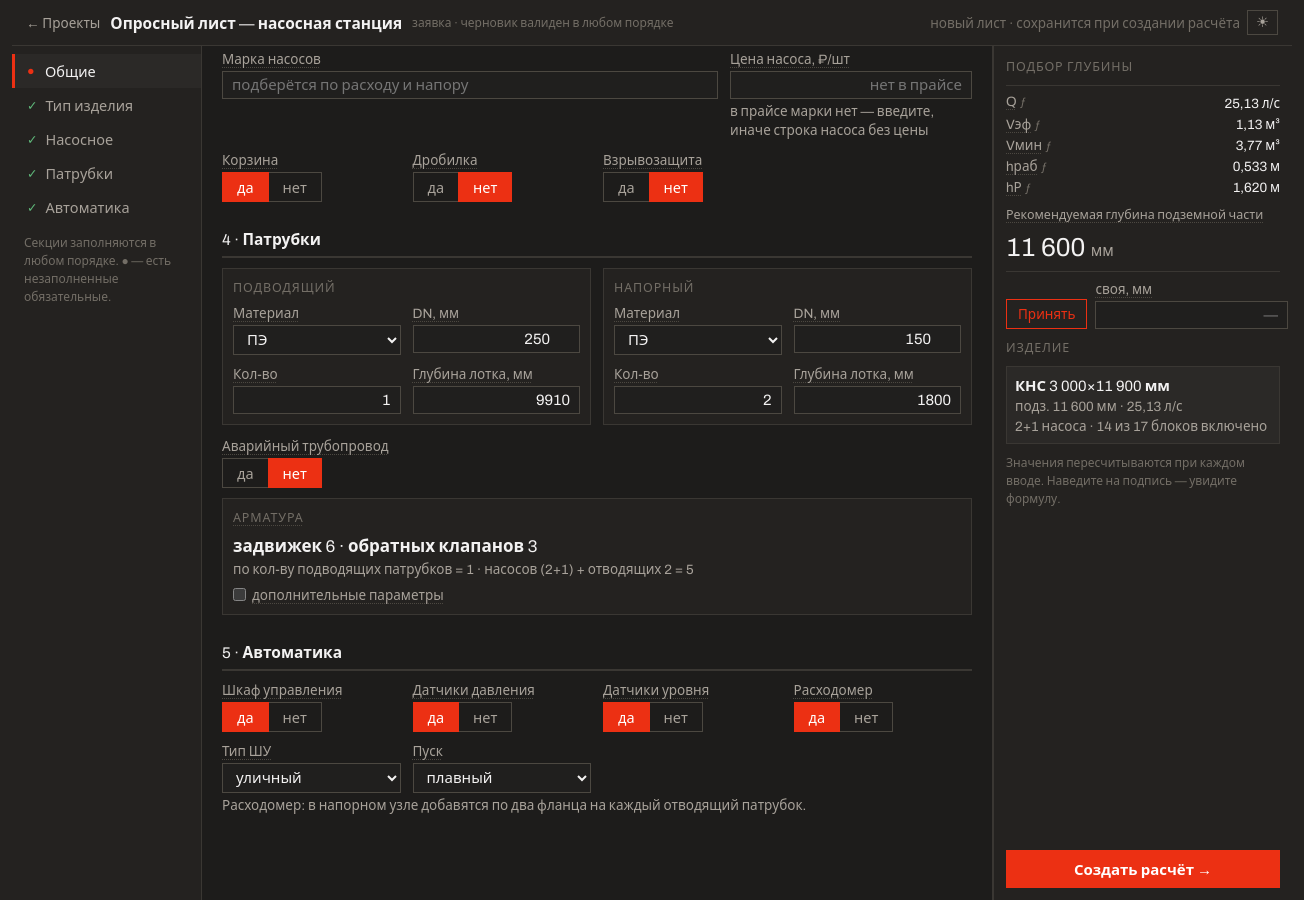
Test case: ОЛ КНС: дополнительные параметры и обязательная комплектация › аварийная линия открывает выбор муфты и сохраняет размер после выключения
(page scrolled)
Click the button "да" below "Аварийный трубопровод" at x=245, y=473, box [222,458,269,488]
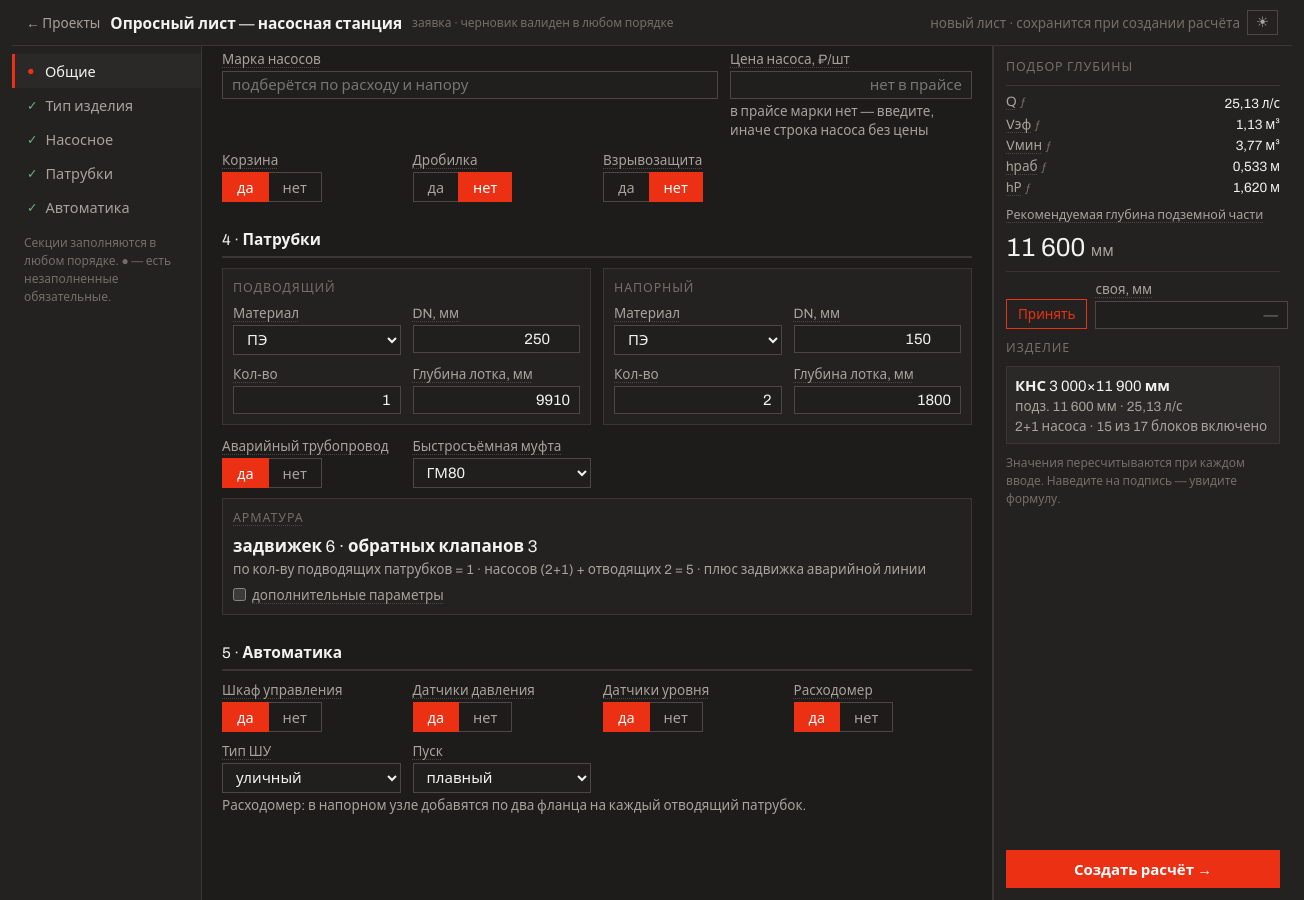
Expected: the dropdown labelled "Быстросъёмная муфта" shows "ГМ80"
Select "ГМ100" in the dropdown labelled "Быстросъёмная муфта" at x=502, y=473, box [412,458,591,488]
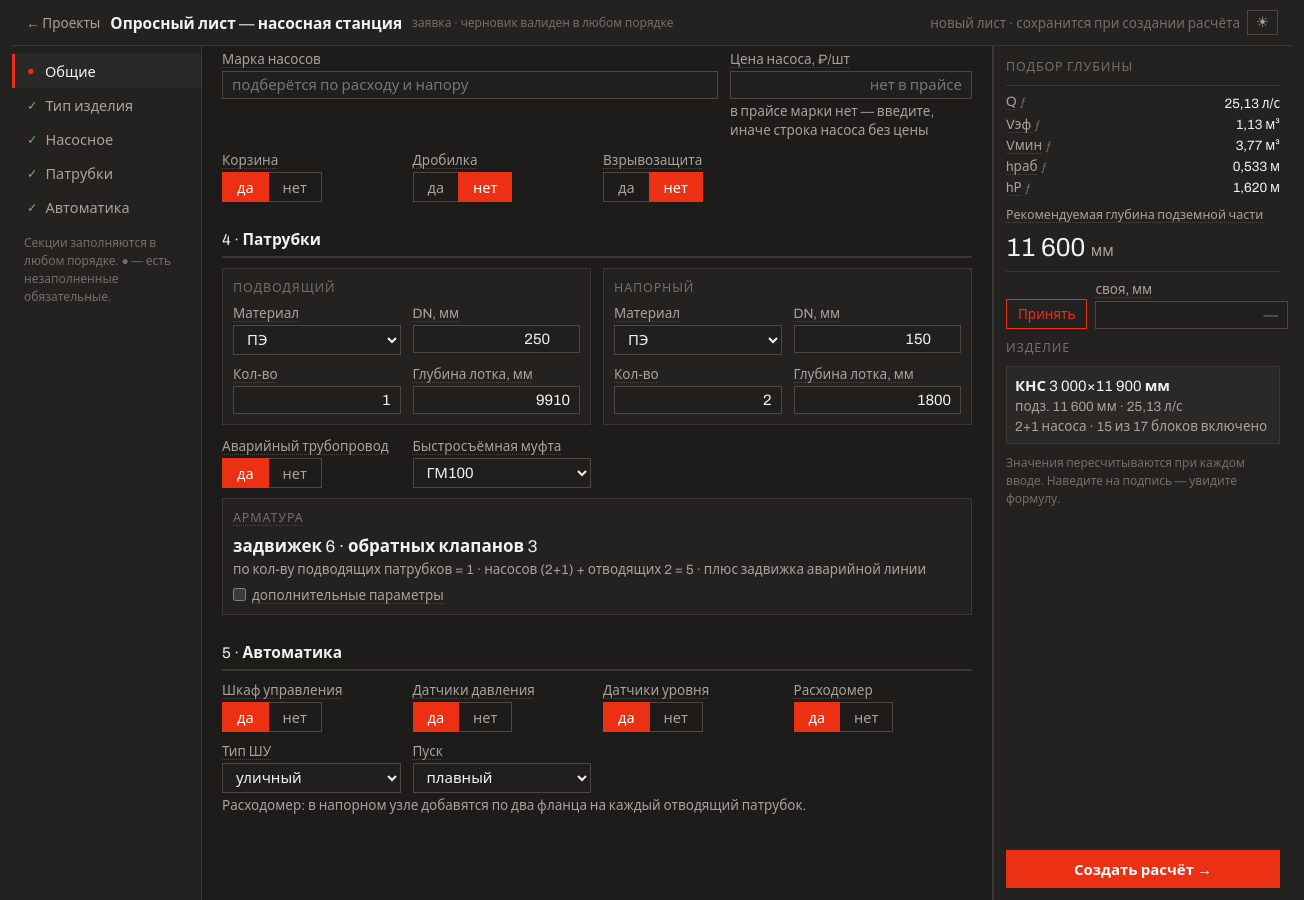
Click the button "нет" below "Аварийный трубопровод" at x=295, y=473, box [268,458,322,488]
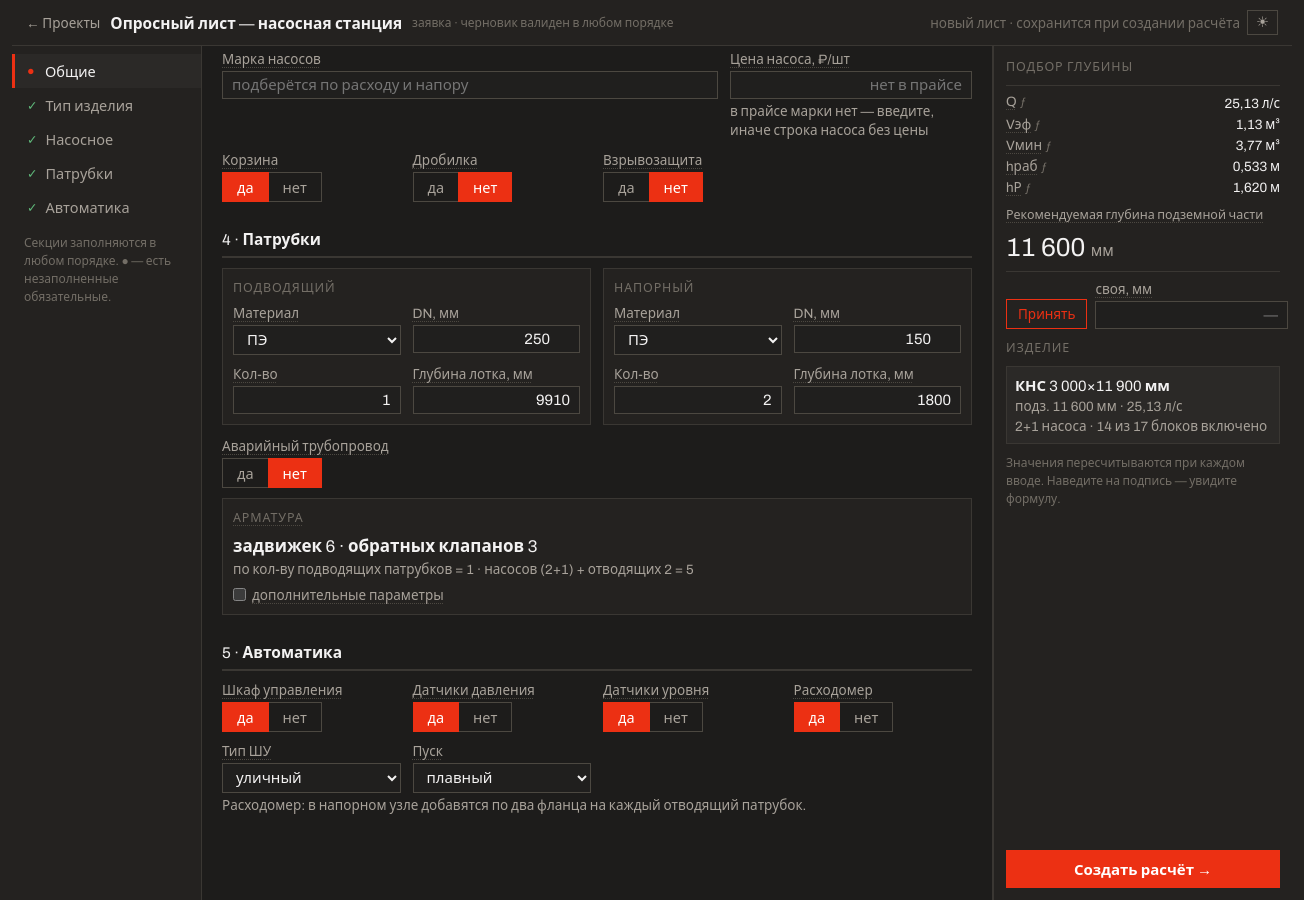
Click the button "да" below "Аварийный трубопровод" at x=245, y=473, box [222,458,269,488]
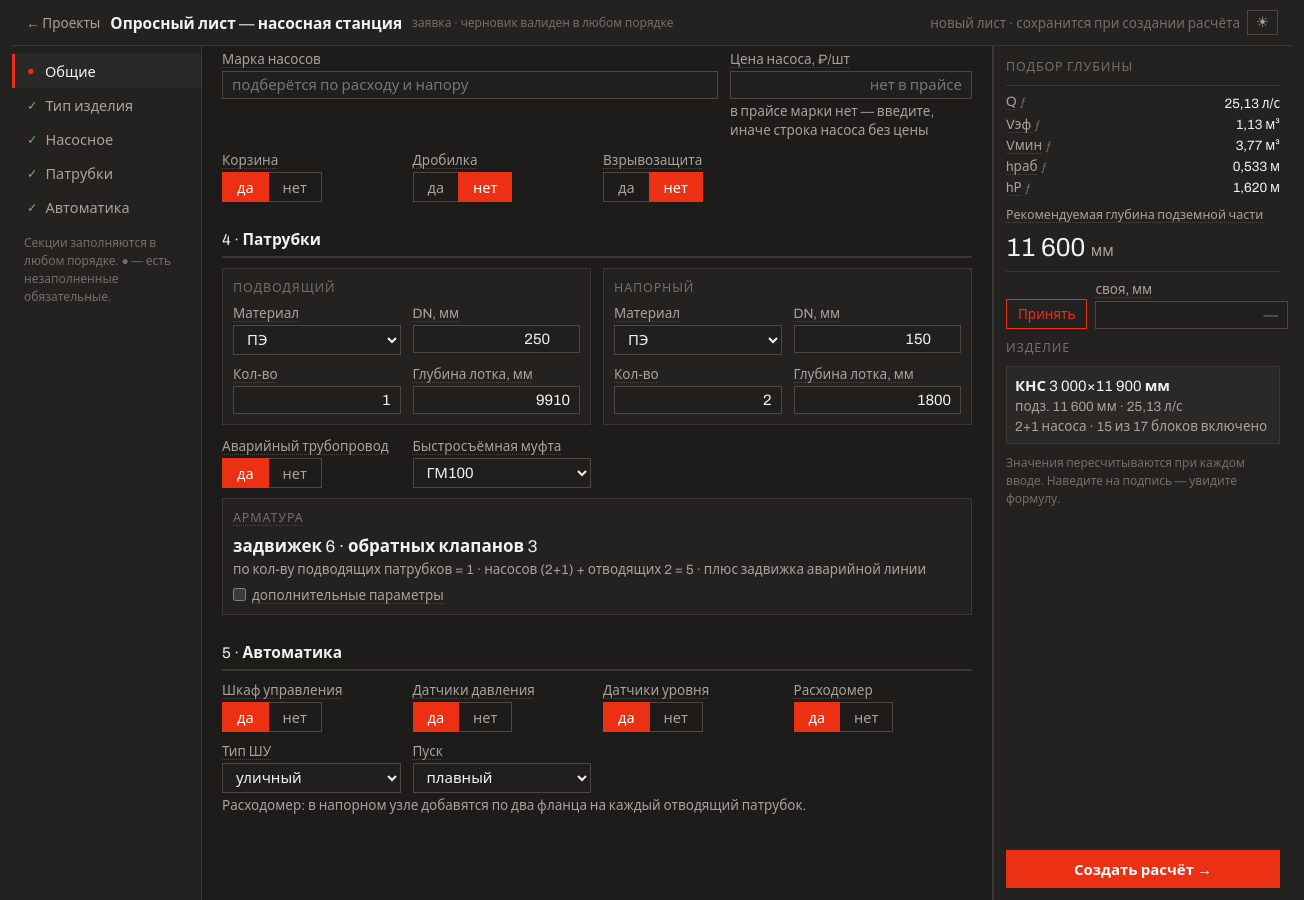
Expected: the dropdown labelled "Быстросъёмная муфта" shows "ГМ100", [412,458,591,488]
